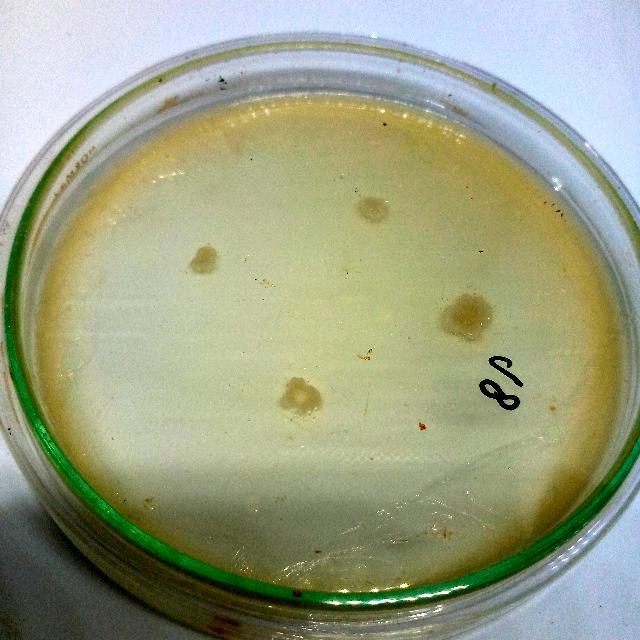colony: (438, 286, 497, 342), (270, 368, 326, 422), (348, 189, 396, 231), (184, 238, 222, 280)
